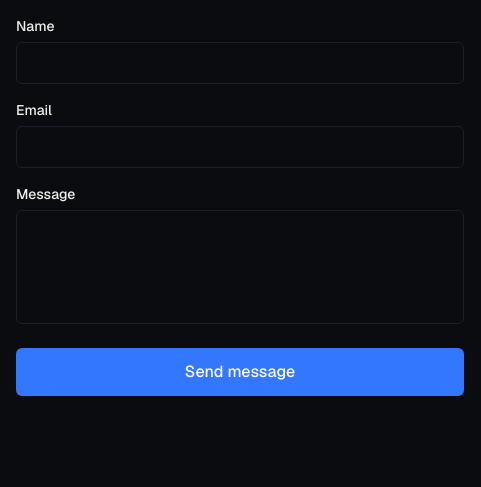
Test: ContactForm Component › 6, 7: error feedback appears, fields remain populated after error
This screenshot has width=481, height=487.
Type "John" into the field labelled "Name" at point(240, 63), box [16,42,464,84]
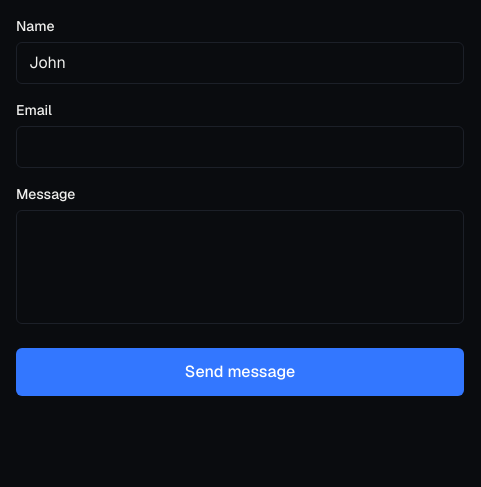
Type "john@example.com" into the field labelled "Email" at point(240, 147), box [16,126,464,168]
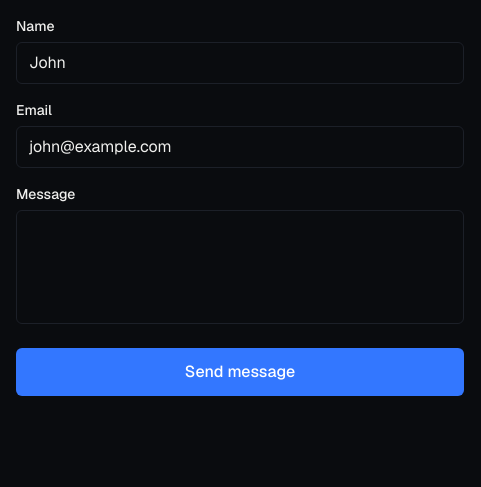
Type "Valid test message" into the text box labelled "Message" at point(240, 267), box [16,210,464,324]
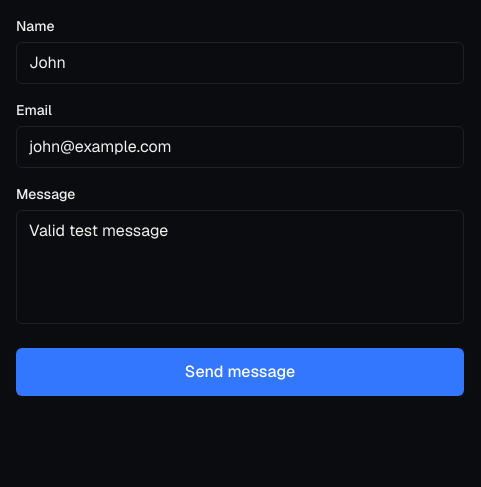
Click the button "Send message" at point(240, 372), box [16,348,464,396]
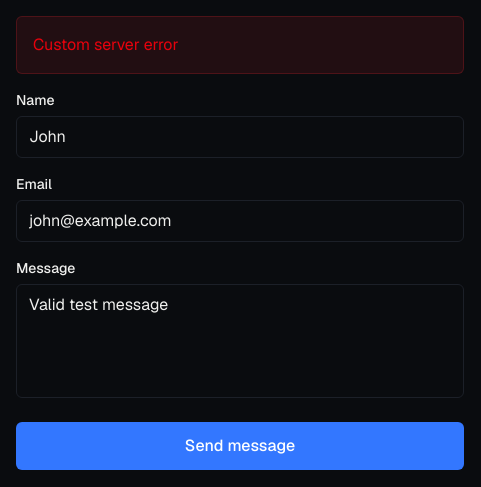
Expected: the text "Custom server error" is shown, [16,16,464,74]
